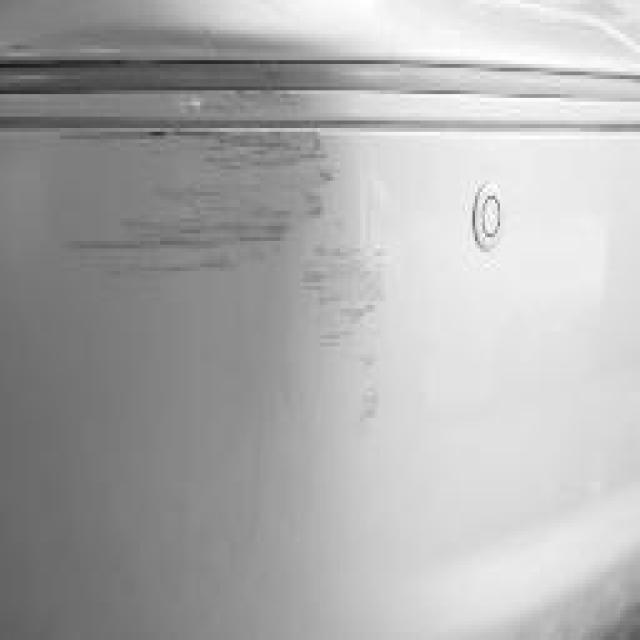Bumper: (38, 68, 432, 440)
